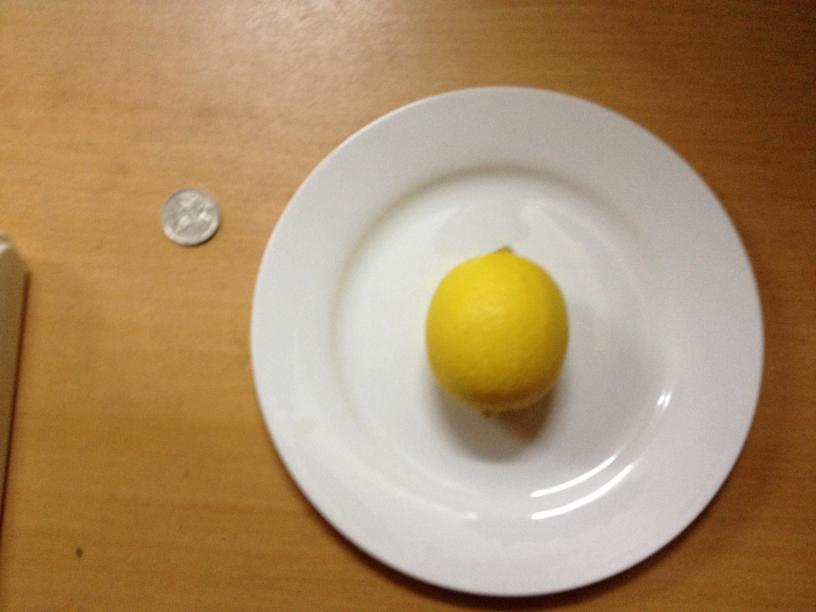coin: (159, 187, 220, 247)
lemon: (424, 250, 567, 409)
